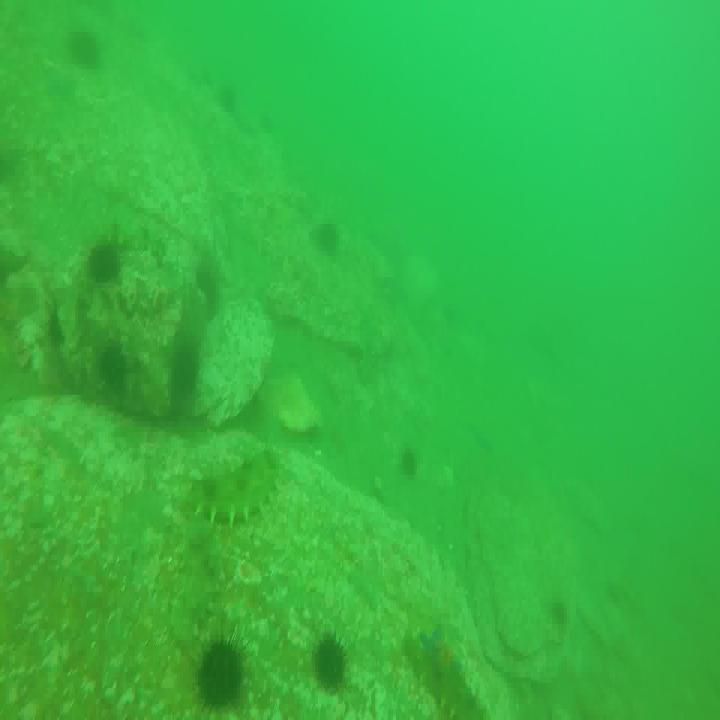echinus: (196, 631, 244, 716), (315, 631, 346, 693), (95, 341, 129, 391), (170, 340, 199, 392), (91, 244, 124, 281), (313, 219, 343, 256), (73, 32, 101, 71), (399, 443, 420, 481)
holothurian: (188, 453, 282, 529), (424, 659, 491, 719)
starfish: (418, 628, 462, 679)
